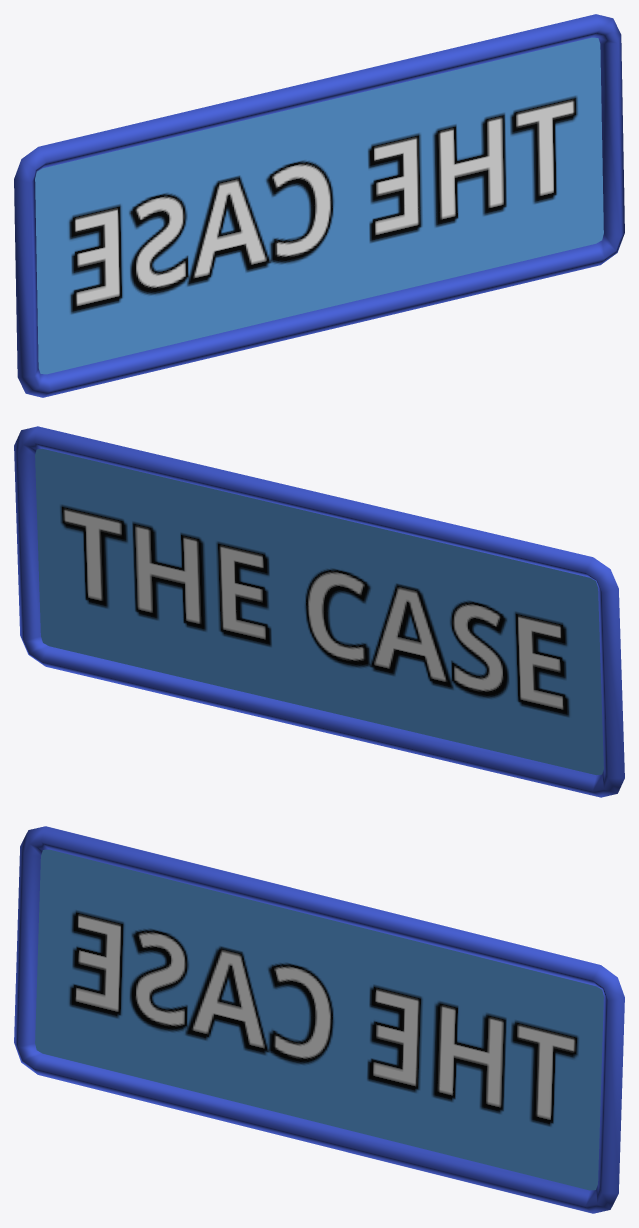
File: The Case.fbx
3 views of the same model, one above another, from view 1: azimuth 30°, elevation 25°; view 2: azimuth 150°, elevation 25°; view 3: azimuth 330°, elevation 25° (orthographic).
Visible parts, largest first — view 1: The Case; view 2: The Case; view 3: The Case.
Part boxes in pixels (x1=…): The Case: x1=14, y1=14, x2=624, y2=397; The Case: x1=14, y1=426, x2=624, y2=797; The Case: x1=14, y1=826, x2=624, y2=1213.
Bounding box in the file's own units: 9.08 × 3.56 × 0.4827.
